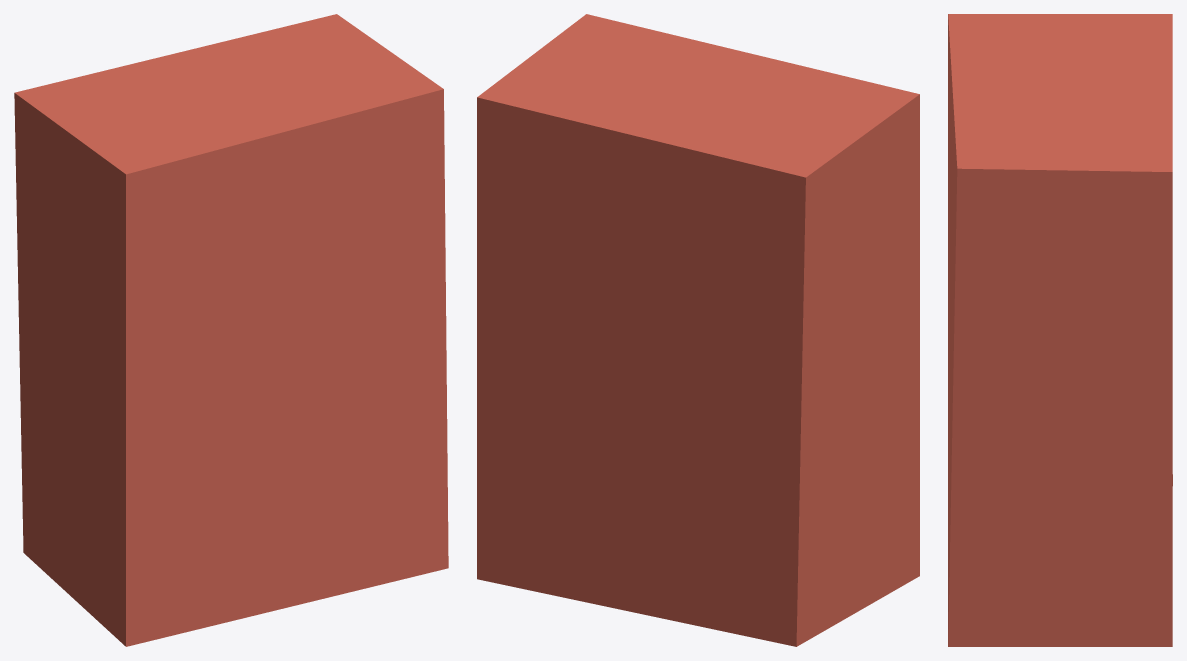
The model's file is gas_can.glb.
3 views of the same model, side by side, from view 1: azimuth 30°, elevation 25°; view 2: azimuth 150°, elevation 25°; view 3: azimuth 270°, elevation 25° (orthographic).
Parts seen in each view (by area): view 1: gas_can; view 2: gas_can; view 3: gas_can.
Boxes of the visible parts, left/top/right/bottom form: gas_can: left=14, top=14, right=448, bottom=646; gas_can: left=477, top=14, right=919, bottom=646; gas_can: left=948, top=14, right=1172, bottom=646.
Bounding box in the file's own units: 0.125 × 0.1762 × 0.075.
